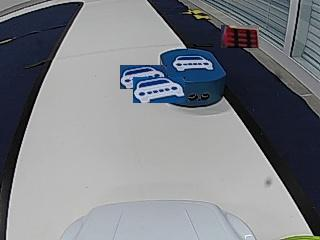safety: (172, 54, 215, 71)
